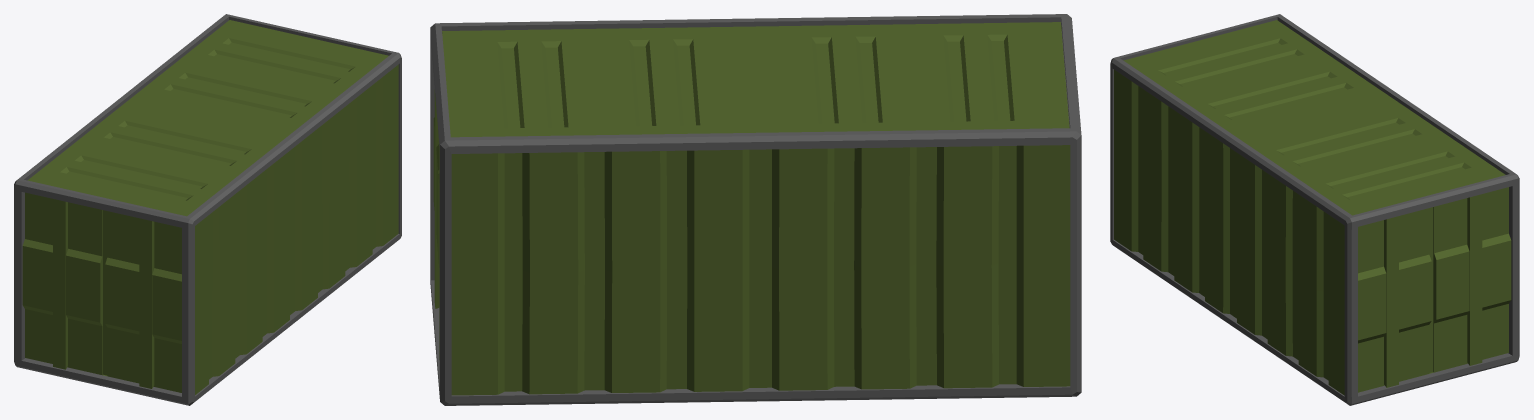
Rendered from container_green_lev1.glb.
3 renders of one model, left to right at view 1: azimuth 30°, elevation 25°; view 2: azimuth 150°, elevation 25°; view 3: azimuth 270°, elevation 25°, orthographic. The views are drawn at different scales.
Parts seen in each view (by area): view 1: container_green_lev1; view 2: container_green_lev1; view 3: container_green_lev1.
Boxes of the visible parts, left/top/right/bottom form: container_green_lev1: left=14, top=14, right=401, bottom=405; container_green_lev1: left=430, top=14, right=1081, bottom=405; container_green_lev1: left=1110, top=14, right=1519, bottom=405.
Bounding box in the file's own units: 6.15 × 2.6 × 5.14.
1 material, 1 textured.
